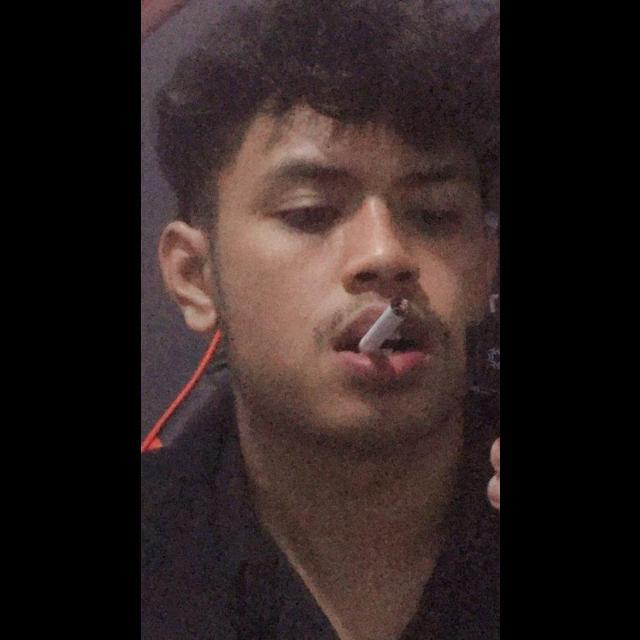rokok: (358, 293, 412, 357)
